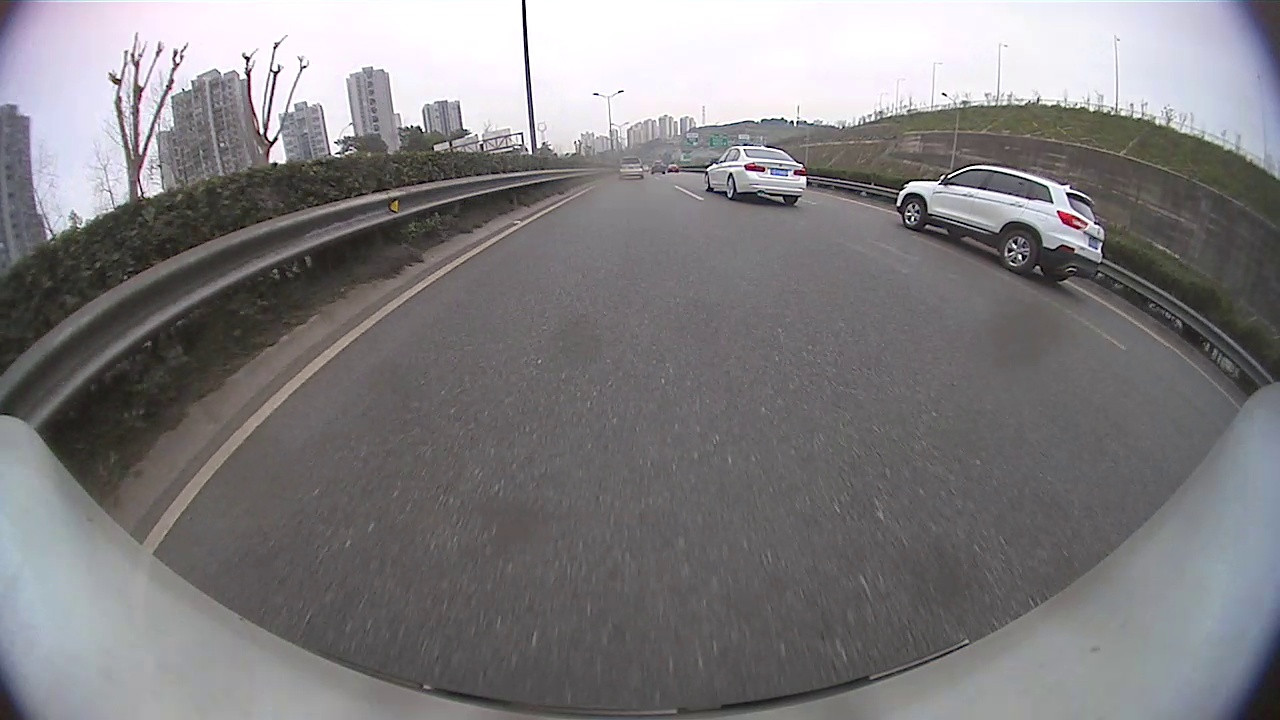car: (894, 162, 1105, 282), (702, 144, 807, 205), (616, 155, 644, 180)
front: (901, 199, 927, 231)
rear: (998, 230, 1037, 275), (725, 176, 739, 202)
